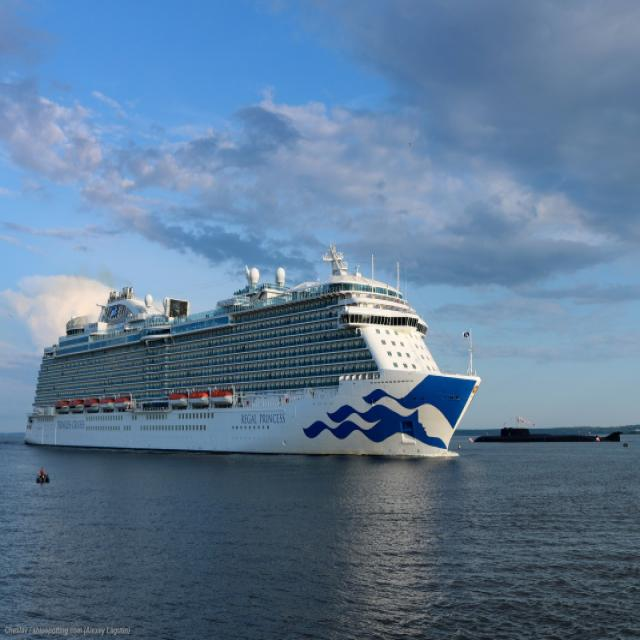cruises: (22, 242, 487, 468)
